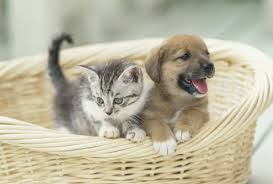cat: (36, 34, 145, 144)
dog: (143, 31, 212, 154)
